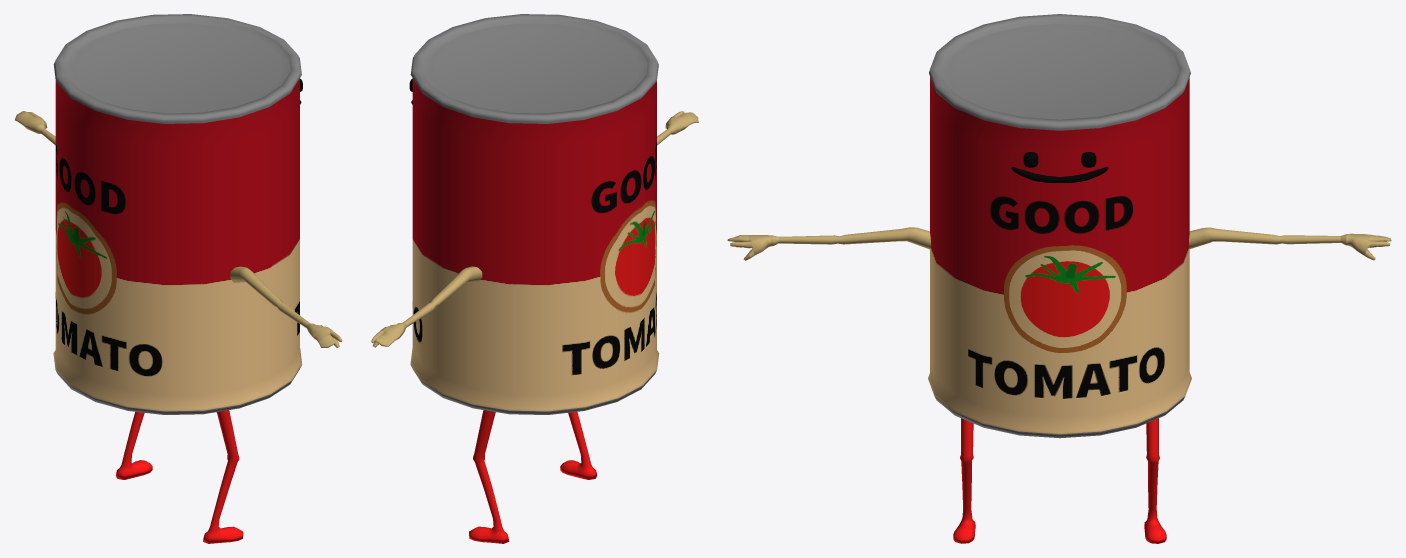
Rendered from scene_qEibqm176G.glb.
3 renders of one model, left to right at view 1: azimuth 30°, elevation 25°; view 2: azimuth 150°, elevation 25°; view 3: azimuth 270°, elevation 25°, orthographic. The views are drawn at different scales.
Parts seen in each view (by area): view 1: Body_9; view 2: Body_9; view 3: Body_9.
Boxes of the visible parts, left/top/right/bottom form: Body_9: left=15, top=14, right=342, bottom=543; Body_9: left=371, top=14, right=698, bottom=543; Body_9: left=727, top=14, right=1391, bottom=543.
Size of the model in its own units: 1.37 by 2.65 by 3.42.
Materials: 1 (1 with a texture image).
